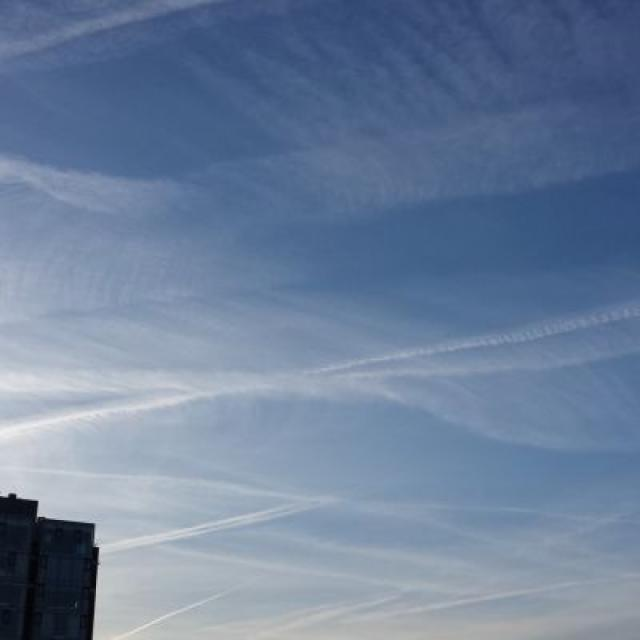Ct: (43, 140, 640, 441)
